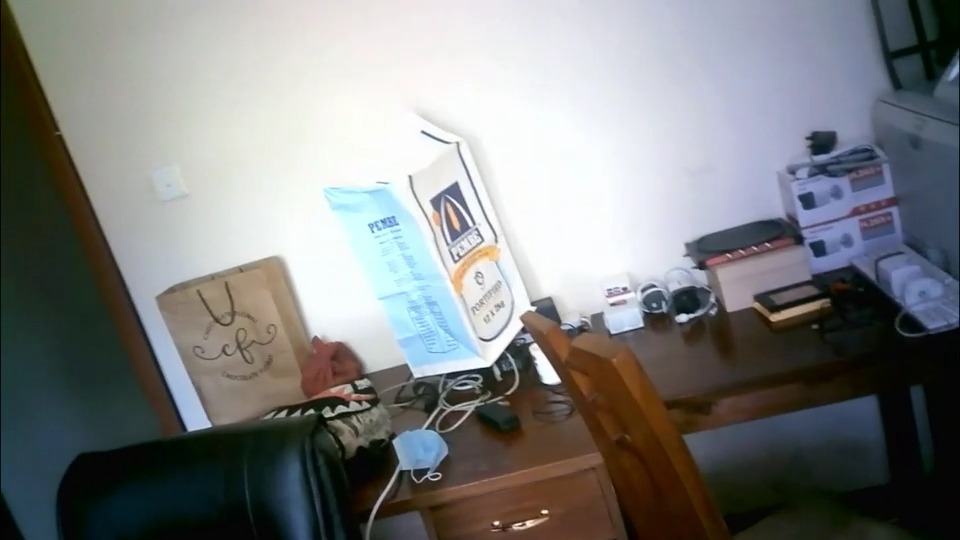wheat_flour_blue_label: (323, 112, 532, 372)
